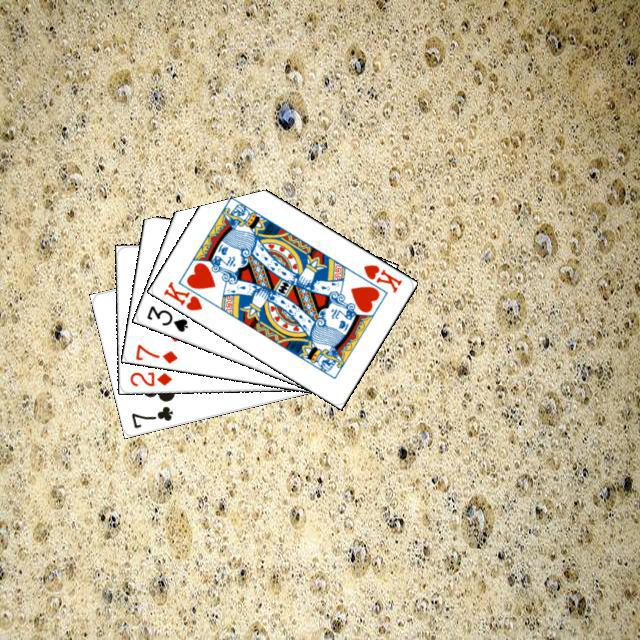2d: (125, 367, 174, 388)
3s: (142, 301, 190, 334)
7c: (126, 401, 175, 430)
7d: (131, 339, 179, 365)
Kh: (158, 275, 213, 312), (358, 259, 404, 295)
